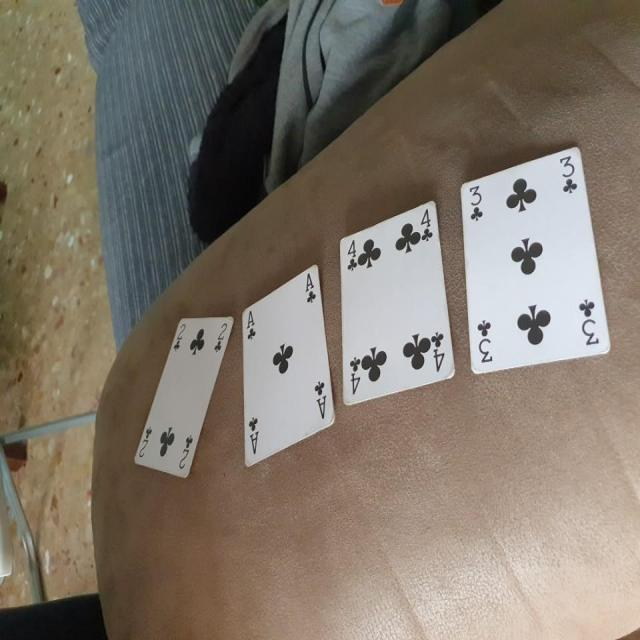2 Trefoils: (134, 311, 235, 482)
3 Trefoils: (459, 145, 612, 374)
4 Trefoils: (339, 198, 460, 406)
A Trefoils: (240, 260, 337, 468)
